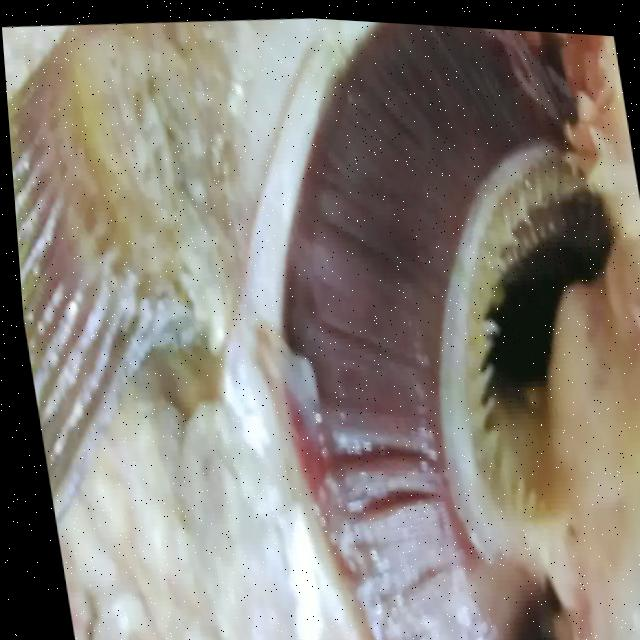Non-Fresh: (215, 10, 640, 640)
